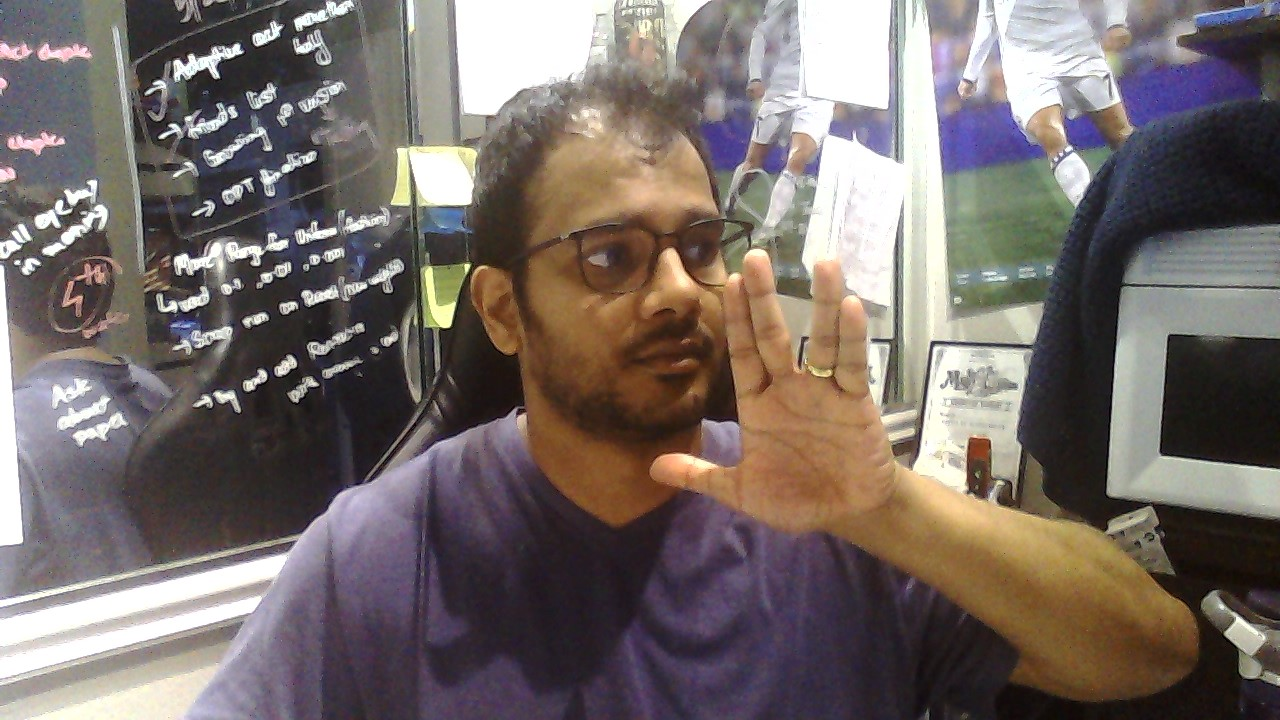LiveLong: (650, 248, 896, 533)
